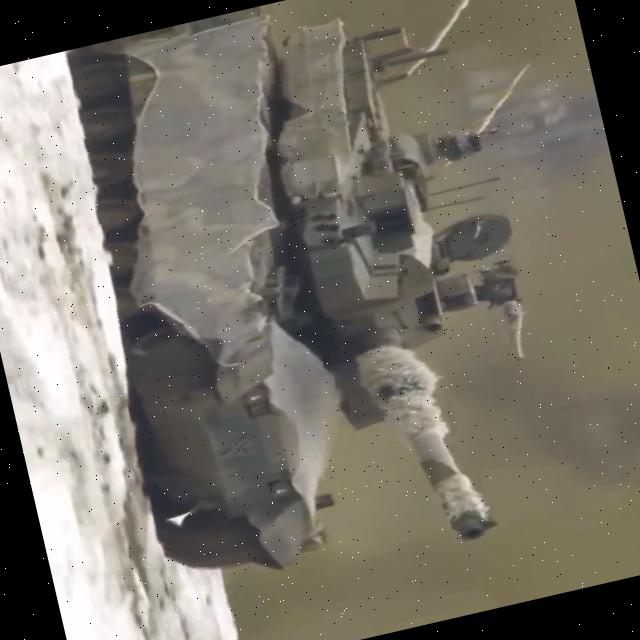korea tank: (38, 0, 587, 612)
